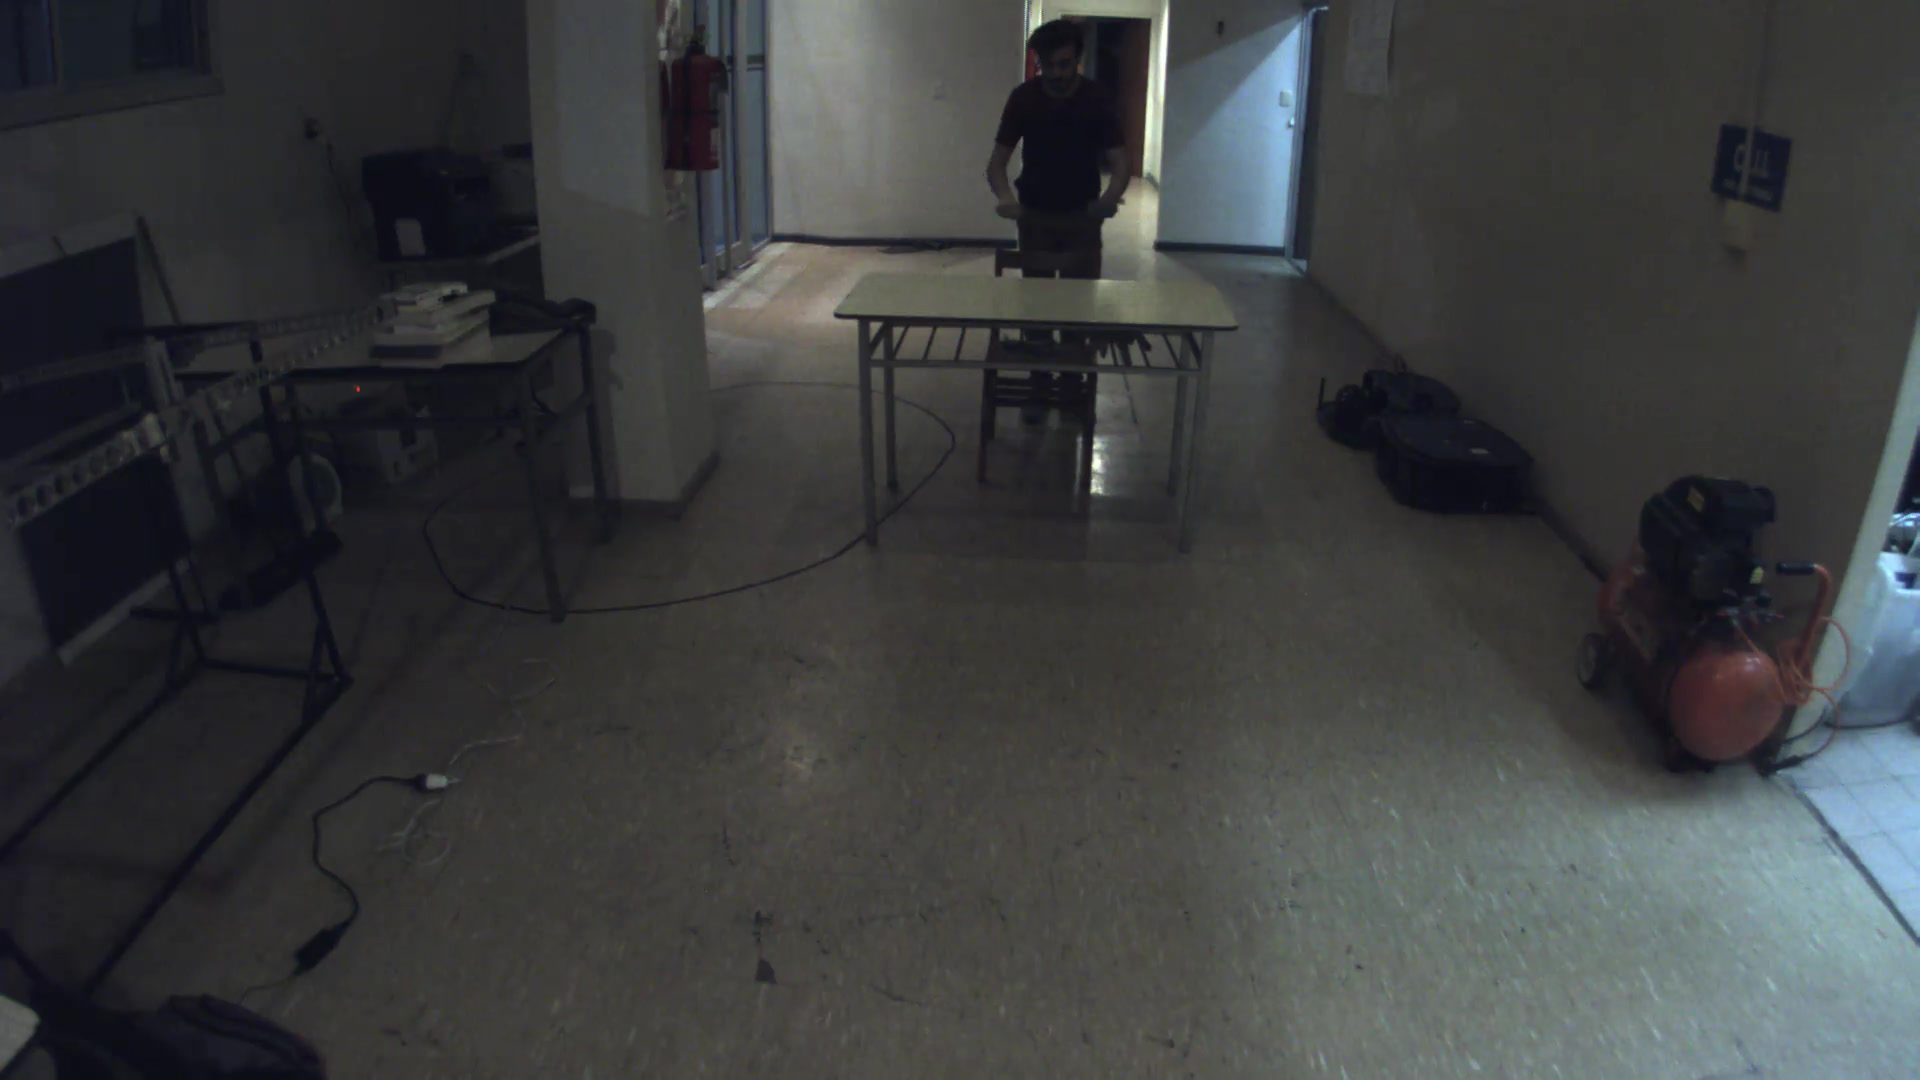hand: (988, 189, 1048, 232), (1081, 189, 1135, 225)
